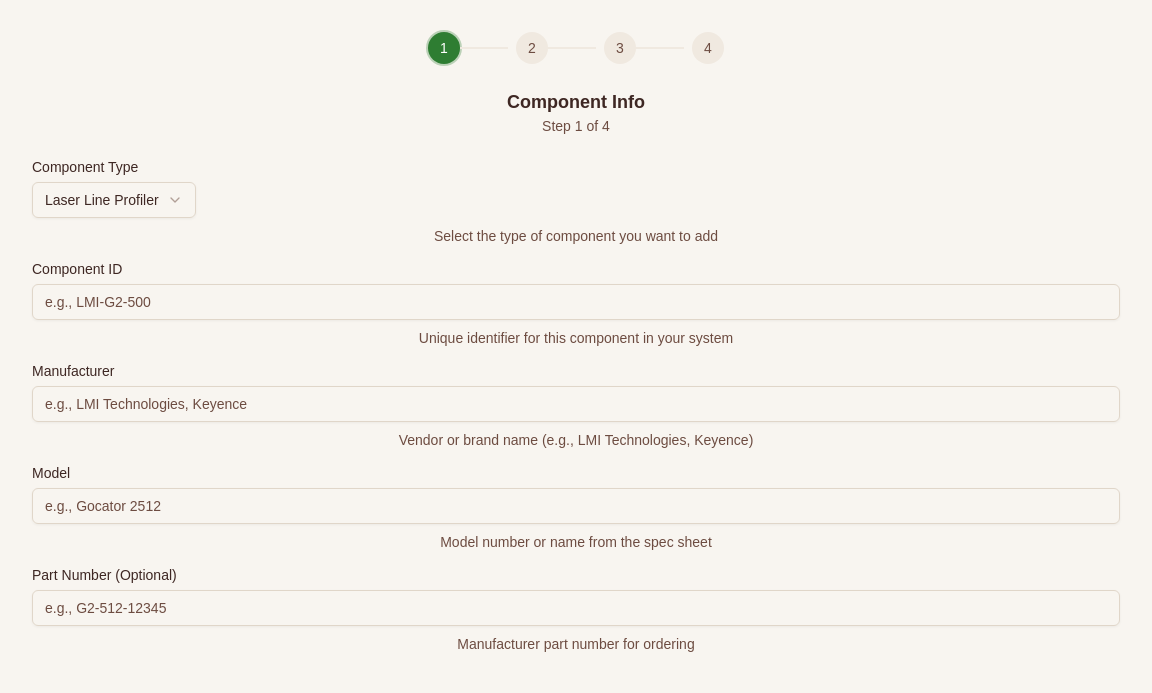
Scenario: ComponentEntryWizard › component type selector › shows LensType selector when Lens type is selected
Click the dropdown named "component type" at (114,200), box [32,182,196,218]
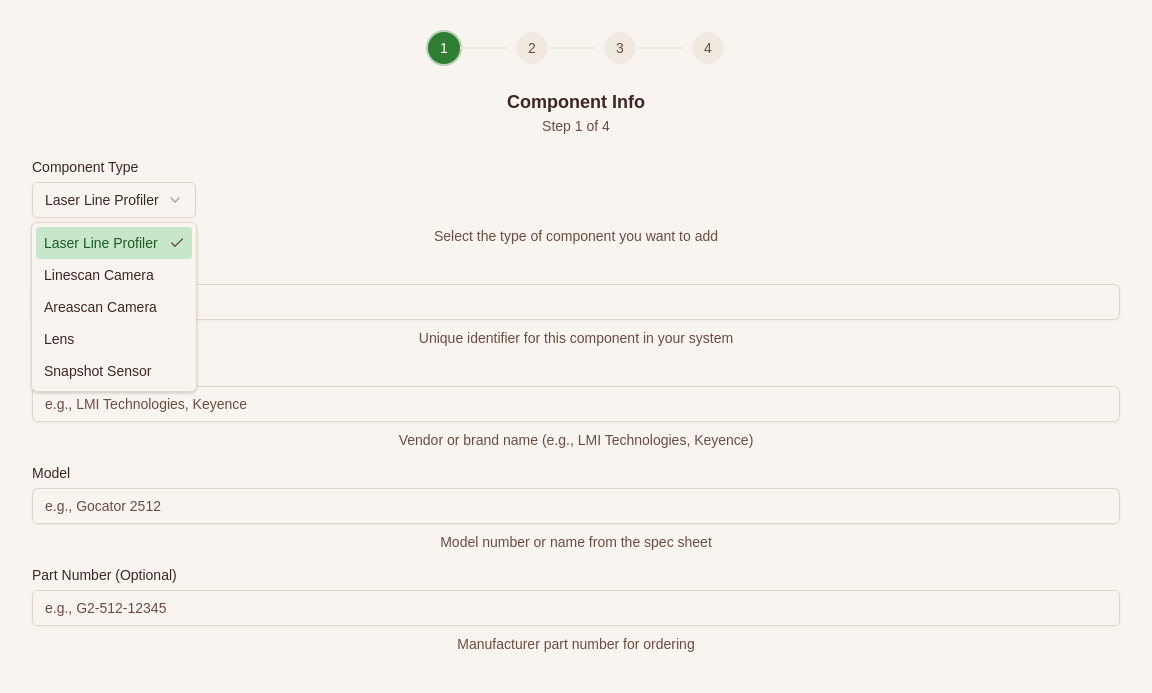
Click the option "Lens" at (59,339), box [44,331,74,347]
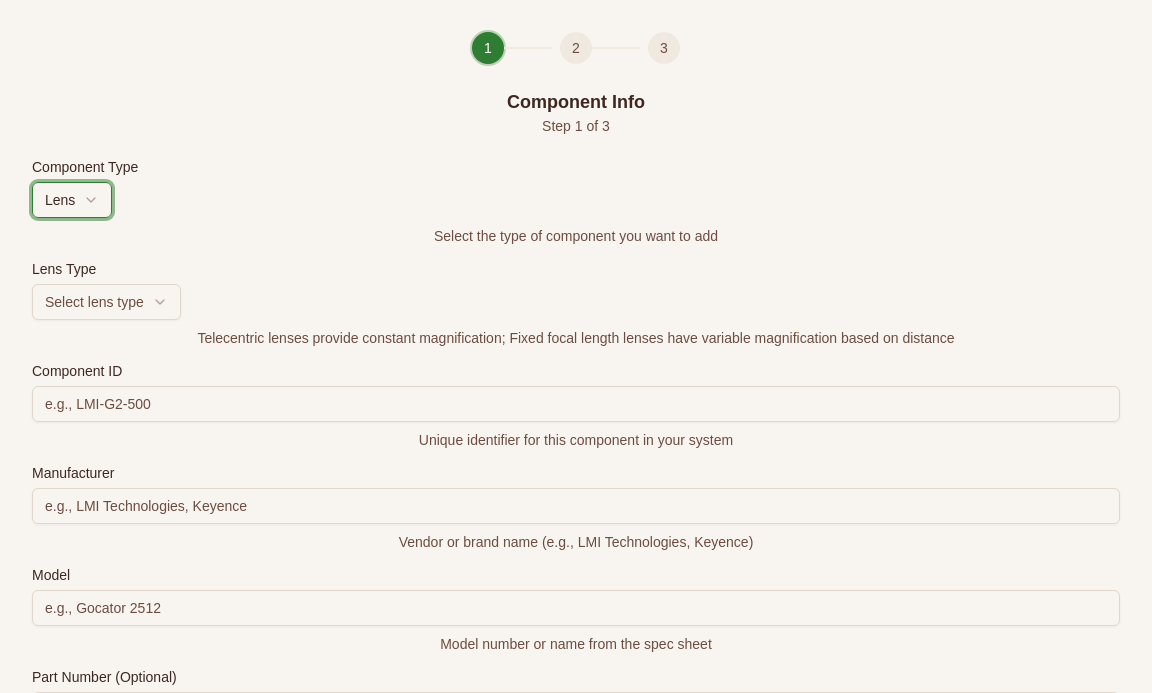
Result: the dropdown labelled "Select lens type" is shown at [32,284,181,320]
